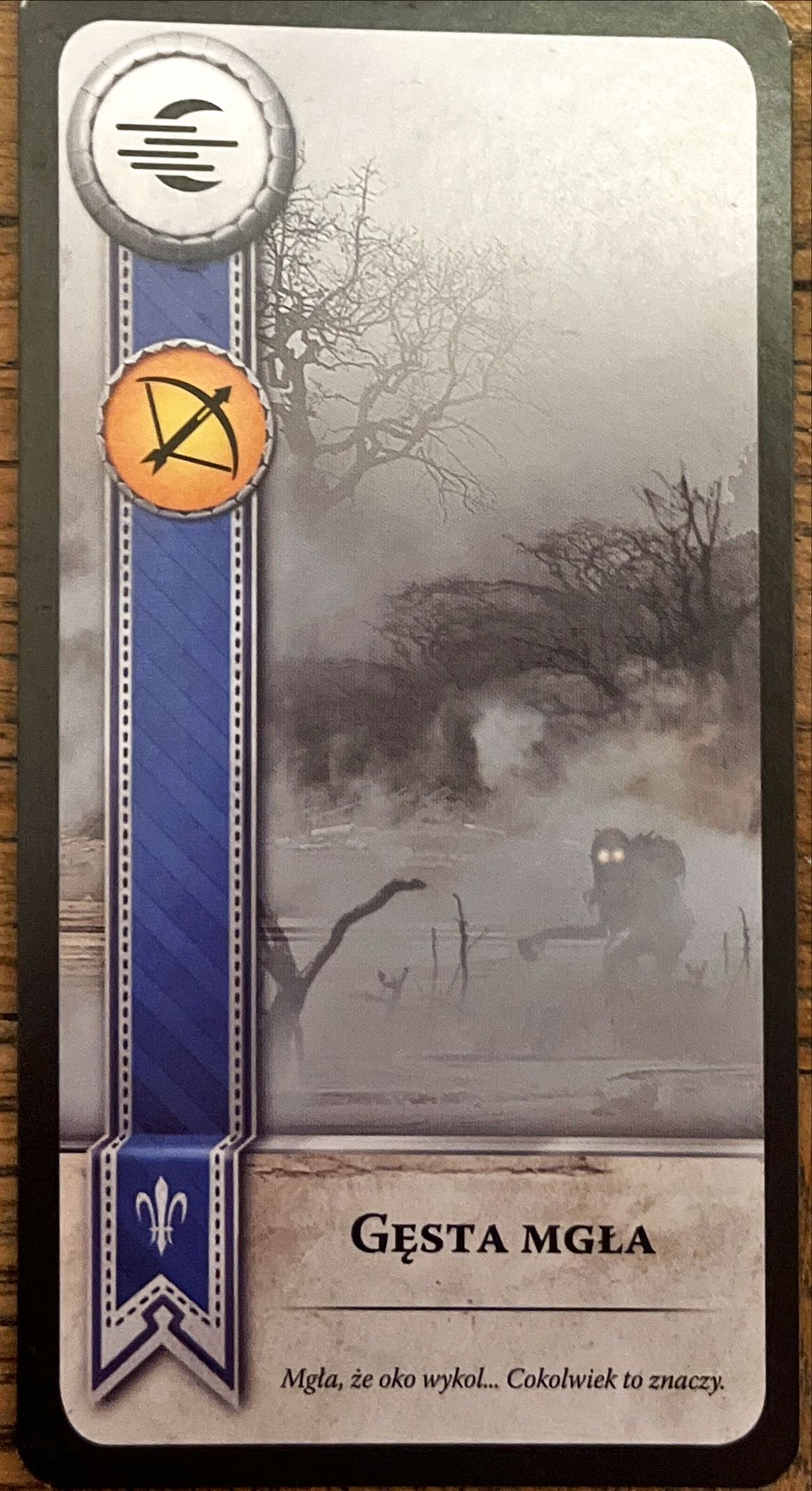lucznik: (97, 337, 275, 519)
mgla: (66, 30, 295, 262)
